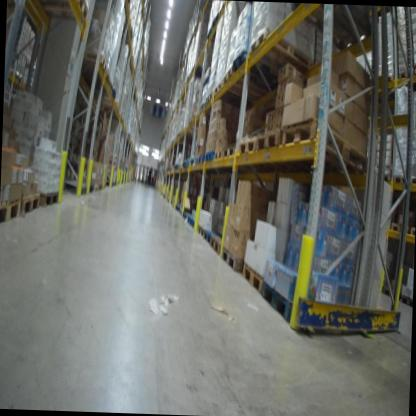pallet: (278, 114, 375, 173), (291, 4, 383, 47), (248, 29, 312, 75), (231, 50, 277, 91), (223, 66, 275, 102), (263, 282, 299, 324), (28, 0, 90, 24), (240, 259, 265, 294), (255, 124, 282, 154), (219, 245, 245, 273), (18, 189, 44, 217), (1, 194, 22, 227), (38, 186, 62, 214), (85, 50, 111, 75), (238, 133, 257, 159), (63, 177, 88, 196), (88, 84, 118, 97), (376, 70, 398, 86), (208, 236, 223, 258), (202, 228, 222, 244), (398, 66, 415, 84), (224, 144, 238, 161), (98, 73, 113, 88), (376, 172, 394, 184), (214, 76, 223, 97), (204, 150, 215, 166), (213, 150, 225, 164), (205, 90, 216, 105), (392, 176, 407, 186), (85, 180, 94, 196), (192, 153, 200, 170), (198, 152, 206, 168), (188, 217, 197, 230), (197, 225, 205, 236), (92, 182, 98, 195), (96, 182, 103, 193), (407, 177, 416, 185), (412, 62, 416, 77), (101, 183, 106, 192), (109, 80, 114, 89)
